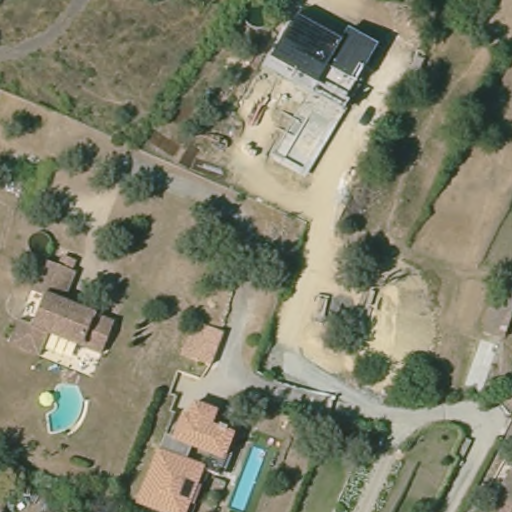pool: (40, 380, 92, 438), (230, 439, 267, 510)
